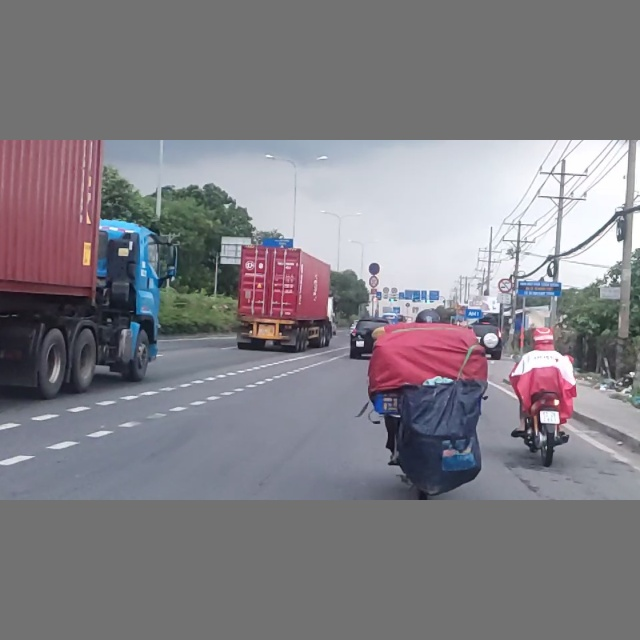P.107: (498, 279, 512, 293)
P.130: (368, 261, 381, 275)
